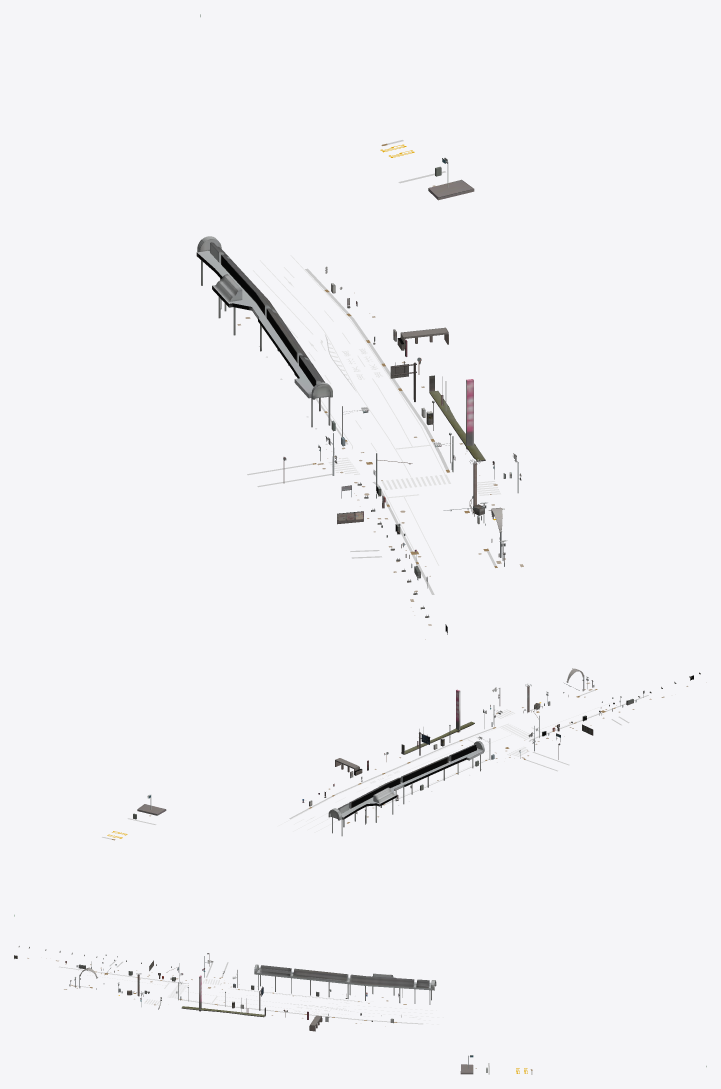
The model's file is frn--16.glb.
3 renders of one model, top to bottom at view 1: azimuth 30°, elevation 25°; view 2: azimuth 150°, elevation 25°; view 3: azimuth 270°, elevation 25°, orthographic. The views are drawn at different scales.
Size of the model in its own units: 103 by 13.7 by 250.
Materials: 2 (1 with a texture image).
